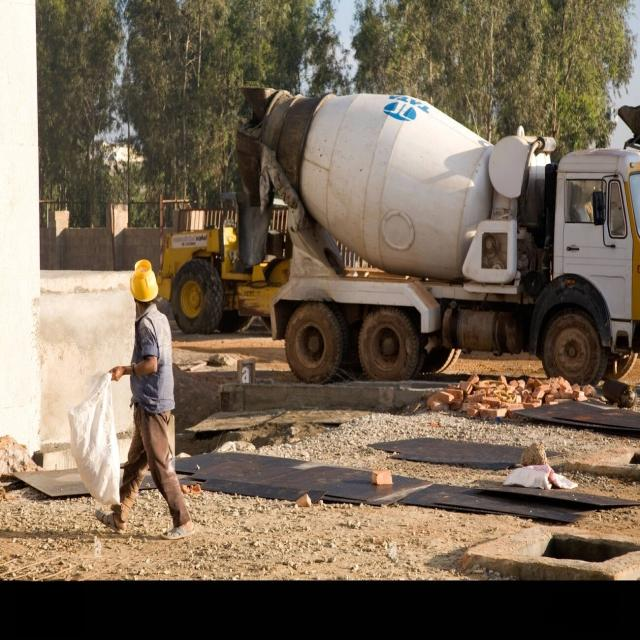truck: (236, 88, 640, 383)
